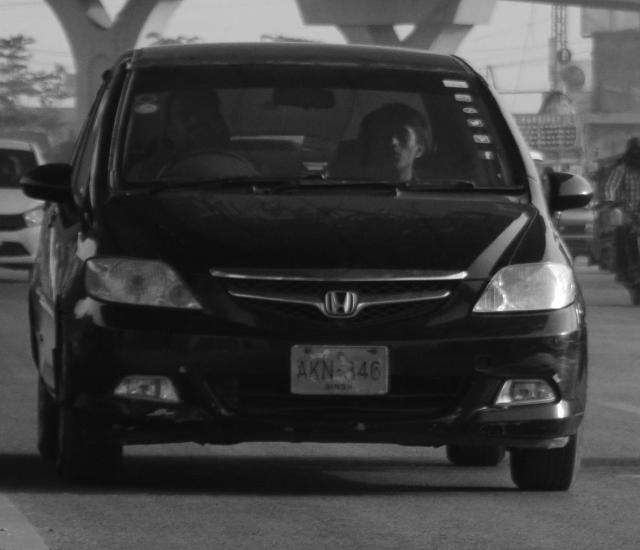Number: (296, 356, 382, 384)
